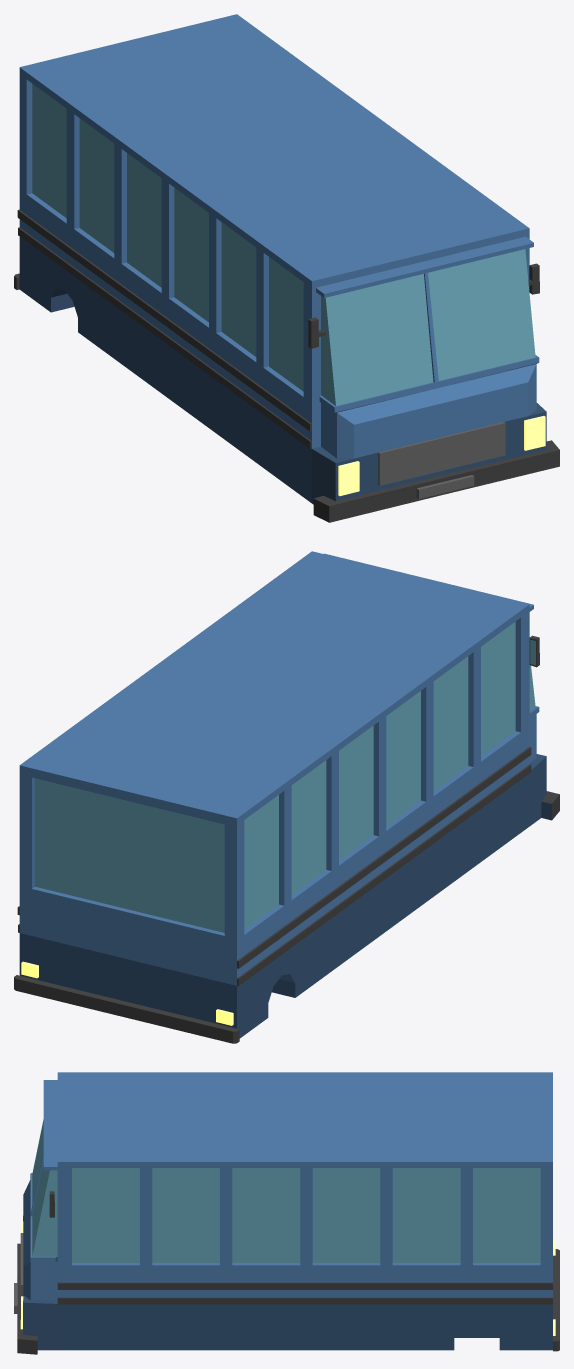
File: bus.glb
3 views of the same model, one above another, from view 1: azimuth 30°, elevation 25°; view 2: azimuth 150°, elevation 25°; view 3: azimuth 270°, elevation 25° (orthographic). The views are drawn at different scales.
Visible parts, largest first — view 1: bus; view 2: bus; view 3: bus.
Boxes of the visible parts, x1,y1,x2,y2 form: bus: (14, 14, 559, 522); bus: (14, 551, 559, 1043); bus: (14, 1072, 559, 1354).
Bounding box in the file's own units: 2.09 × 1.87 × 4.9.
